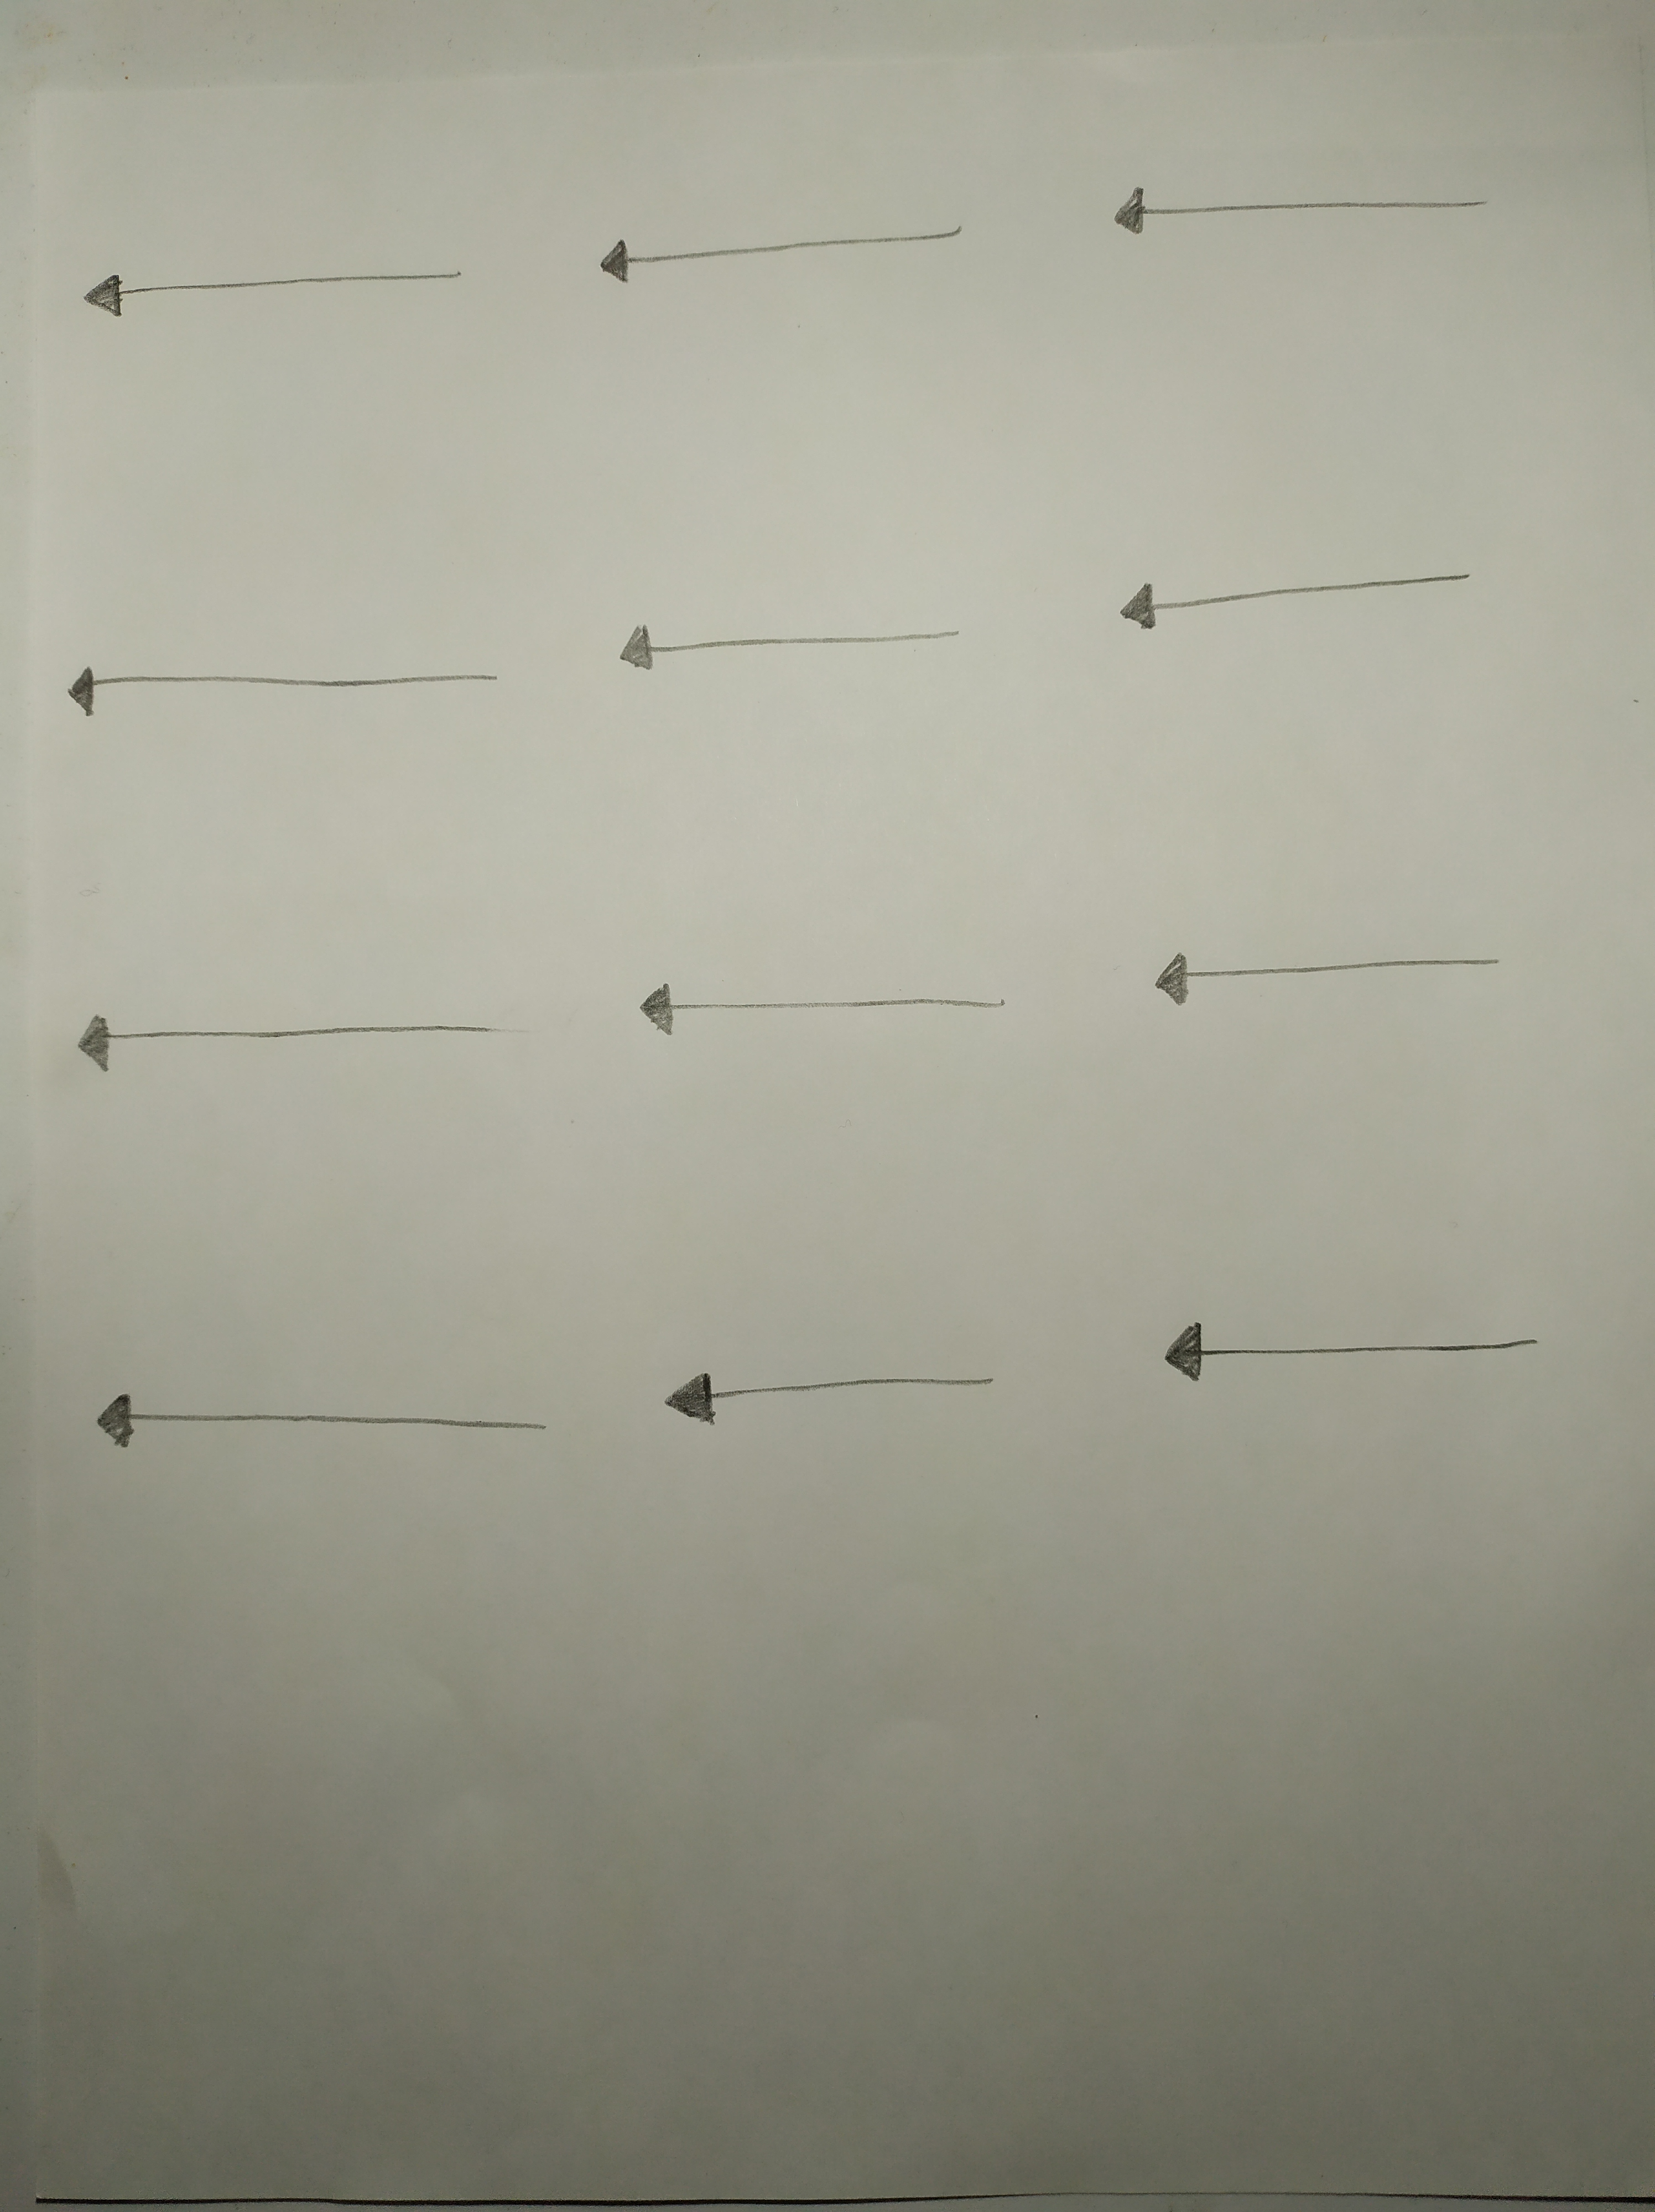arrow_line_left: (75, 1378, 577, 1486), (57, 996, 530, 1089), (612, 968, 1040, 1063), (47, 650, 530, 732), (1092, 169, 1514, 248), (1137, 1312, 1559, 1392), (73, 250, 489, 325), (1127, 937, 1535, 1011), (593, 608, 996, 683), (1092, 568, 1504, 641), (635, 1355, 1026, 1432), (584, 221, 987, 292)
